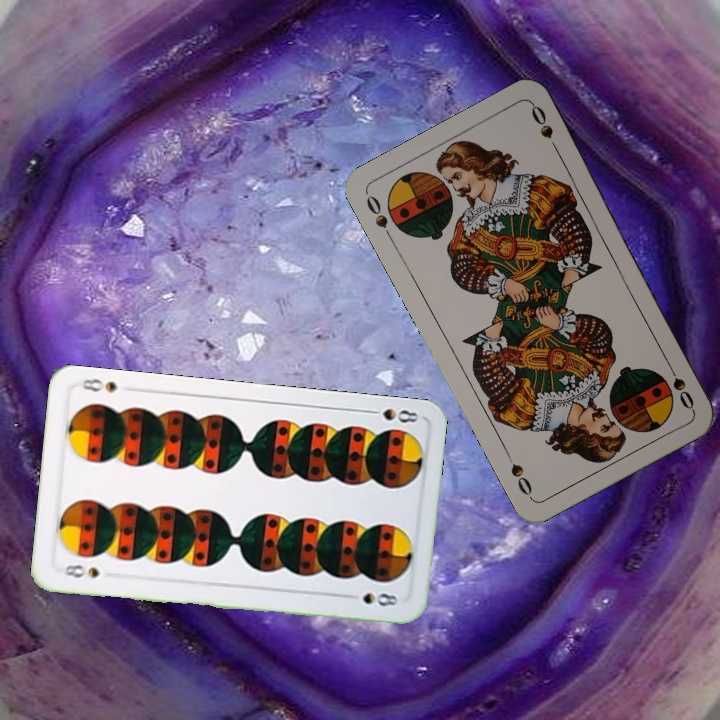S8: (362, 404, 421, 426), (60, 560, 102, 581)
SO: (662, 357, 697, 413), (362, 191, 396, 245)
